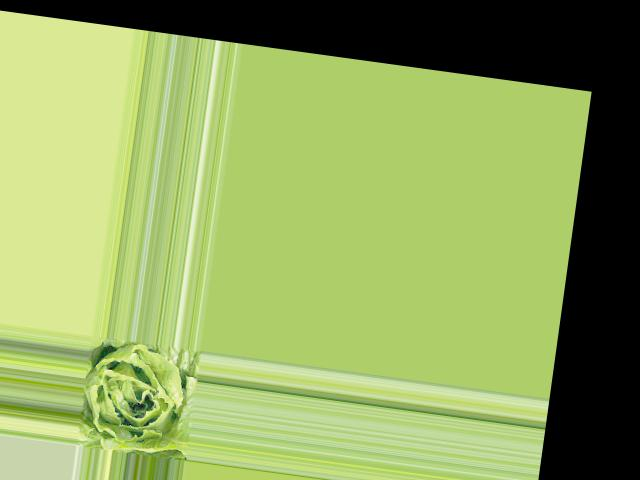lettuce: (77, 337, 201, 459)
